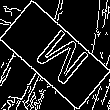M_SW: (23, 21, 87, 89)
